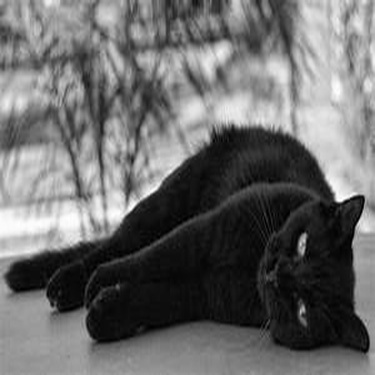cat: (1, 139, 371, 352)
